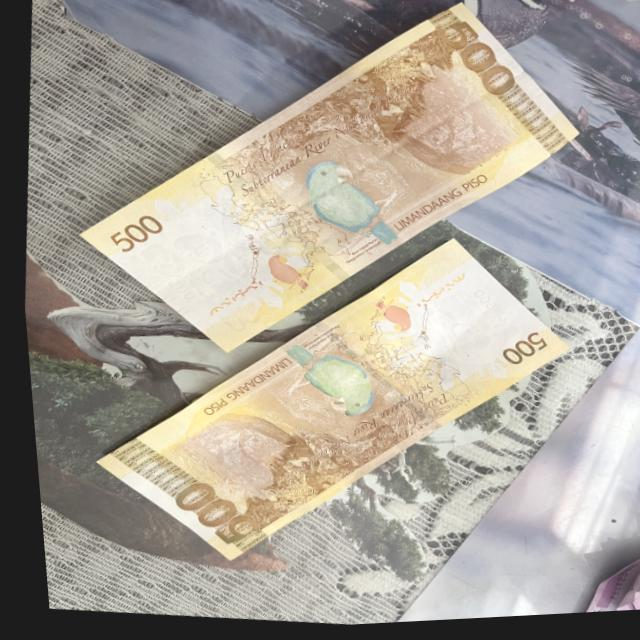500_parrot_watermark: (295, 158, 405, 253), (268, 337, 372, 425), (253, 254, 310, 296), (367, 299, 413, 337)
value_watermark: (461, 289, 497, 319), (159, 276, 194, 306)
watermark: (137, 226, 248, 309), (419, 290, 526, 373)
